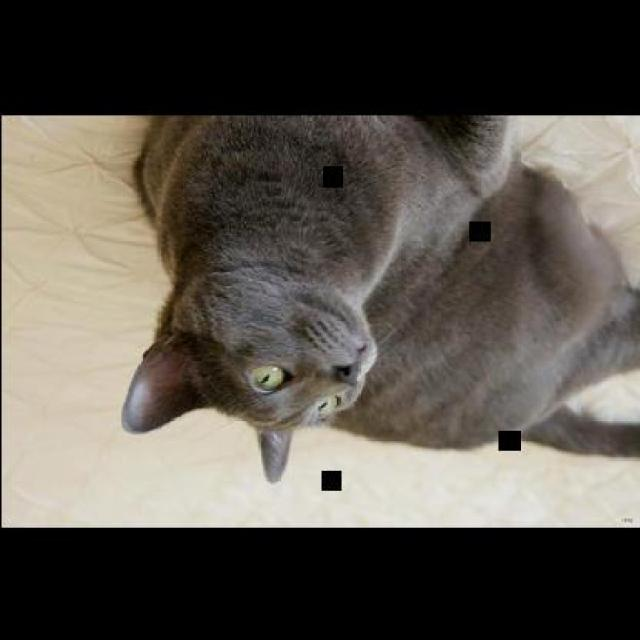unauthorized: (120, 112, 638, 483)
